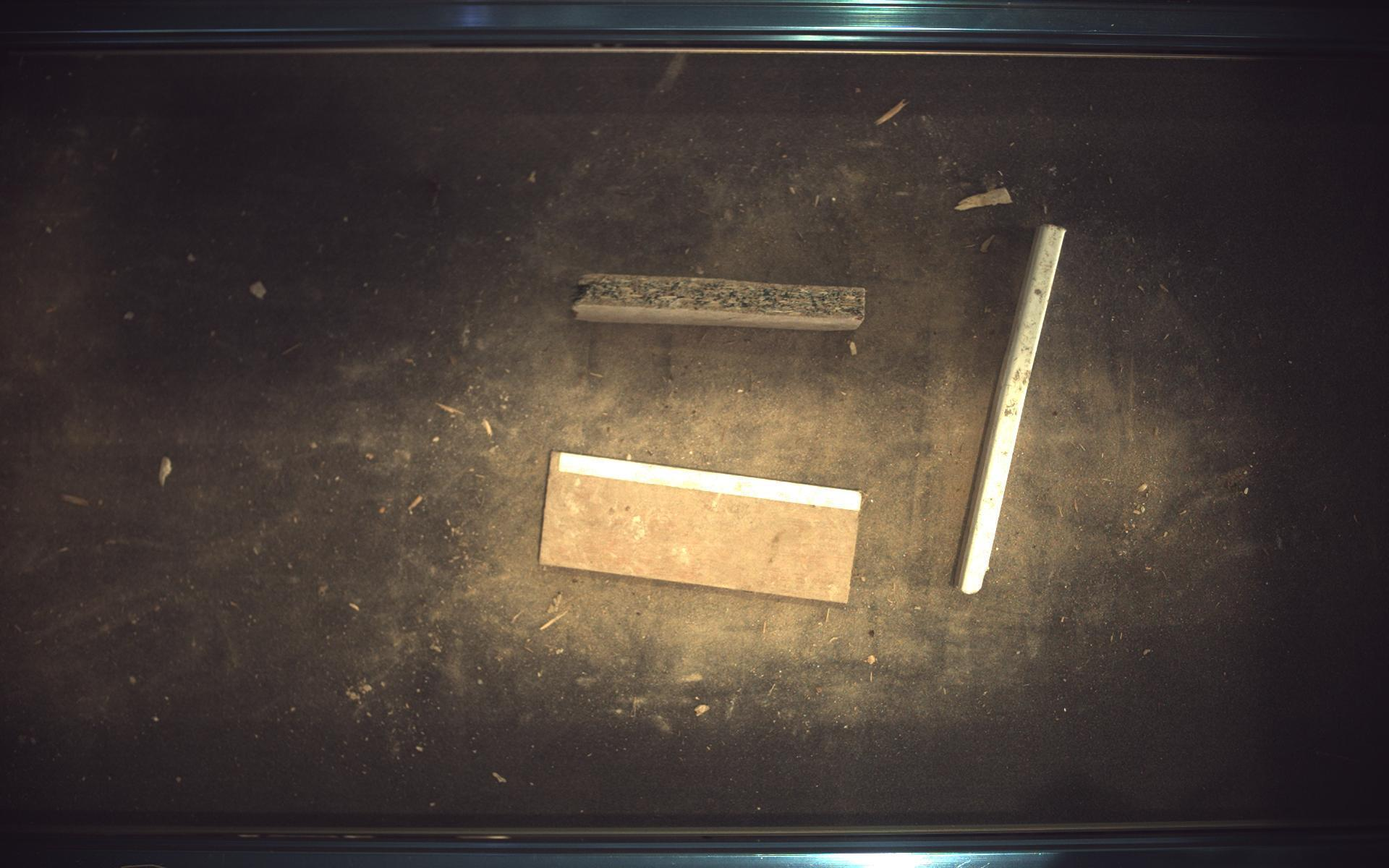wood: (540, 453, 863, 604), (957, 224, 1068, 595), (573, 273, 867, 331)
